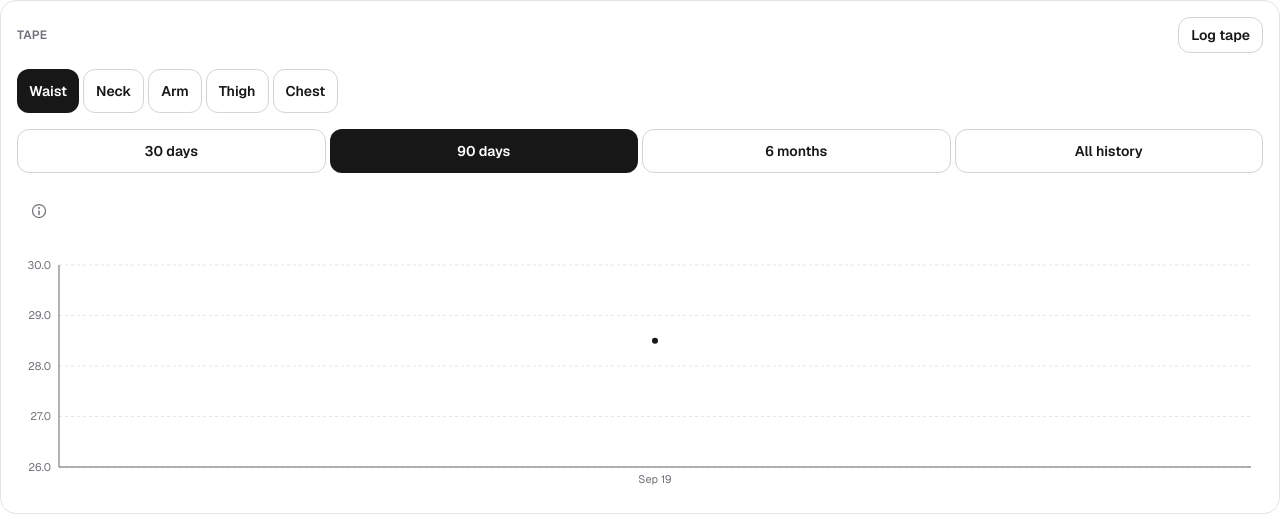
MeasurementTrendCard › turns on chips for sites that have points and hides a series when toggled off
Click the button "Waist": click(48, 91) [17,69,79,113]
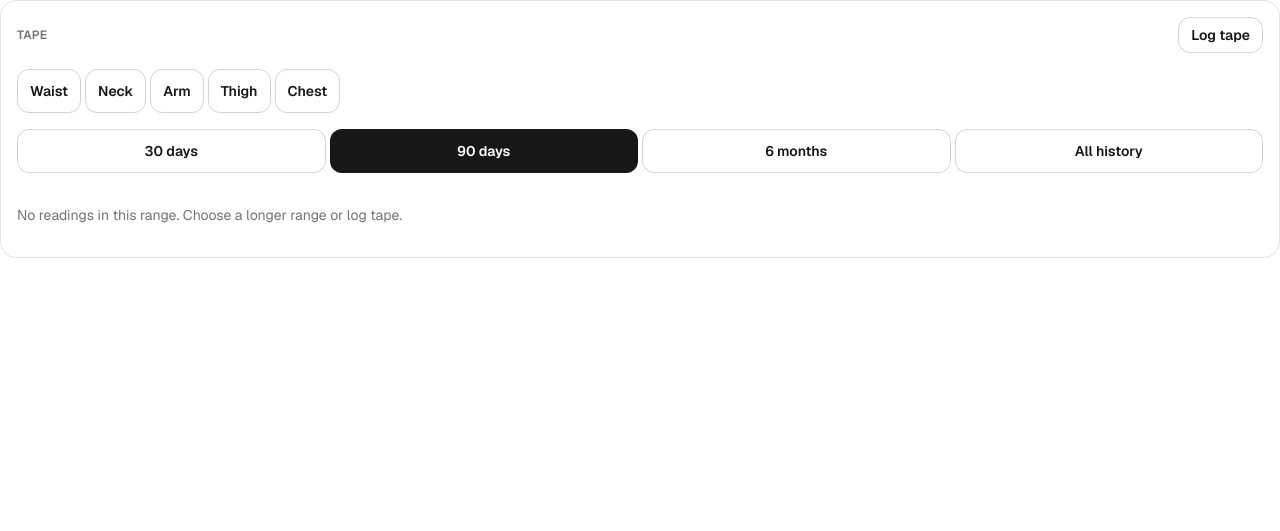
Check: the text "No readings in this range" is shown, box [17,206,402,224]
